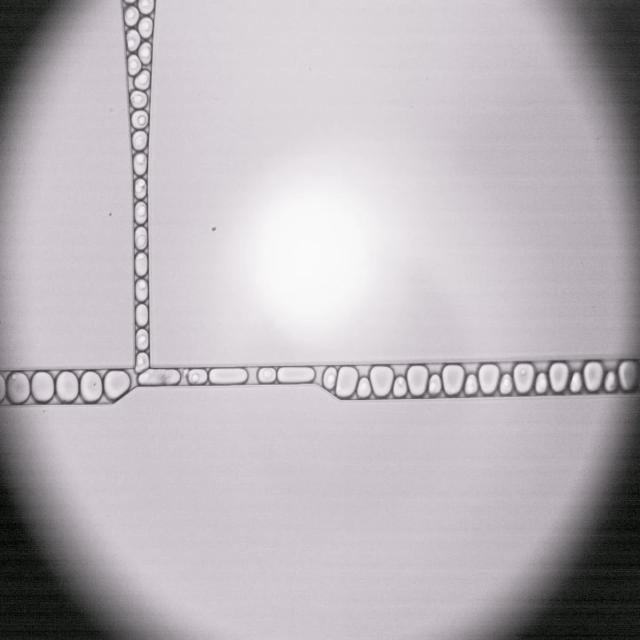L: (130, 91, 148, 108), (134, 70, 150, 89), (124, 6, 139, 26), (135, 253, 148, 276), (138, 17, 152, 38), (132, 131, 148, 149), (127, 29, 140, 51), (135, 279, 148, 301), (135, 304, 148, 326), (188, 369, 207, 384), (357, 378, 371, 398), (393, 377, 407, 397), (134, 153, 147, 174), (323, 368, 336, 389), (604, 371, 617, 392), (132, 111, 148, 128), (258, 368, 276, 383), (135, 353, 149, 372), (135, 227, 147, 249), (128, 55, 141, 75), (428, 374, 441, 394), (139, 43, 151, 64), (135, 202, 147, 223), (136, 329, 148, 350), (464, 375, 477, 394), (135, 179, 147, 199), (535, 373, 547, 393), (570, 372, 582, 392), (500, 374, 512, 393)
S: (104, 371, 130, 399), (370, 366, 393, 397), (80, 371, 102, 402), (32, 371, 54, 402), (8, 372, 30, 403), (336, 367, 358, 397), (442, 364, 464, 394), (56, 372, 78, 402), (407, 366, 428, 396), (513, 363, 534, 393), (209, 368, 247, 384), (139, 369, 179, 384), (479, 364, 499, 394), (583, 362, 603, 392), (277, 367, 314, 383), (549, 362, 568, 392), (619, 361, 636, 390), (0, 374, 5, 401)
